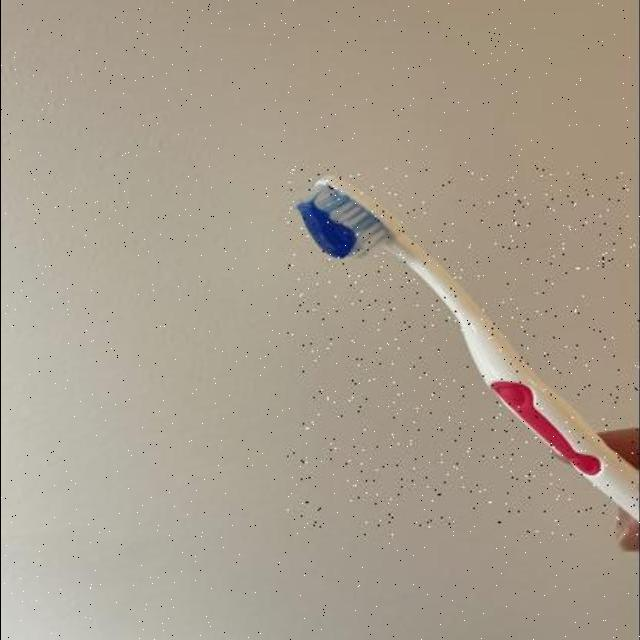toothbrush: (288, 168, 640, 538)
